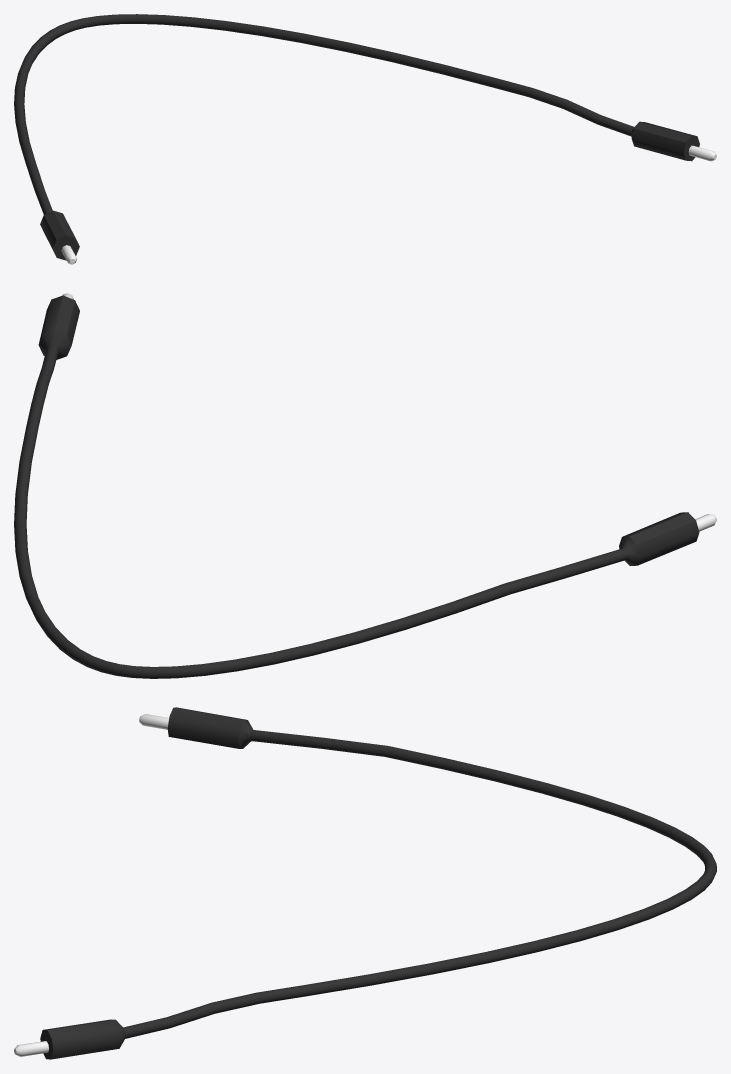
Rendered from ElectroWires04_2.FBX.
3 views of the same model, one above another, from view 1: azimuth 30°, elevation 25°; view 2: azimuth 150°, elevation 25°; view 3: azimuth 270°, elevation 25° (orthographic). The views are drawn at different scales.
Visible parts, largest first — view 1: Wire04; view 2: Wire04; view 3: Wire04.
Part boxes in pixels (<box>): Wire04: <box>14,14,716,264</box>; Wire04: <box>14,293,716,678</box>; Wire04: <box>14,707,716,1059</box>.
Size of the model in its own units: 68.55 by 2.97 by 60.57.
